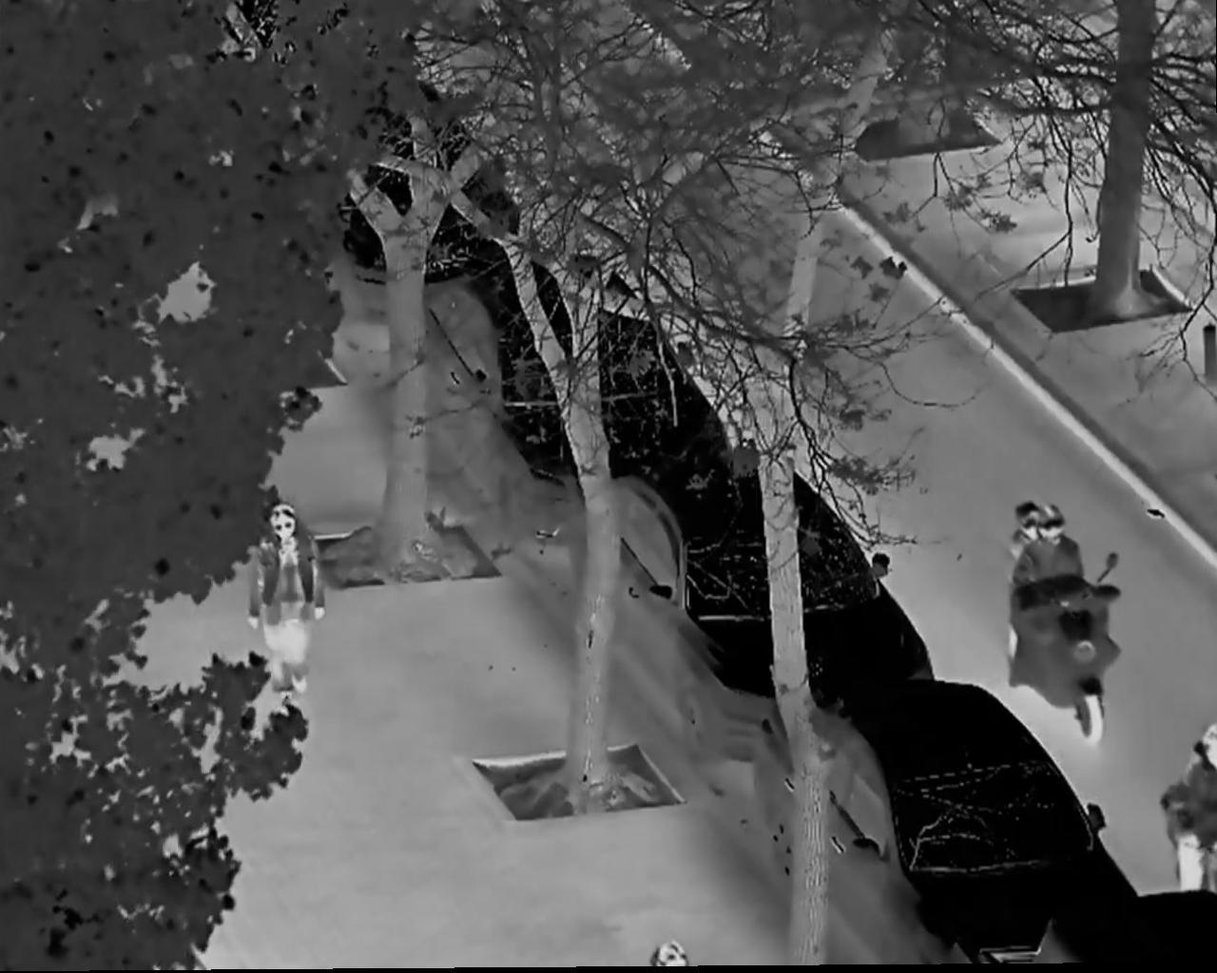person: (1014, 499, 1097, 703), (247, 506, 322, 715), (1160, 725, 1217, 896)
